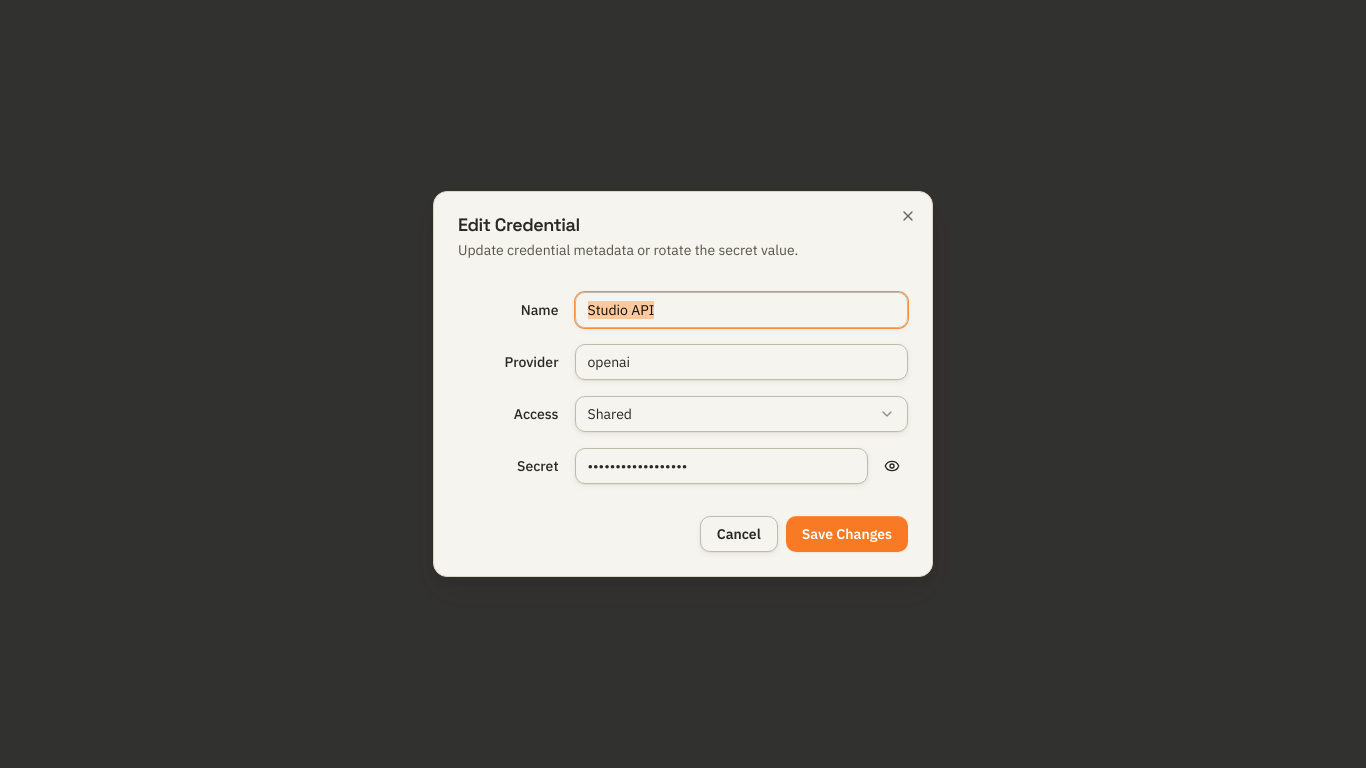
Test case: Credential dialogs › shows an explicit Show button in the edit dialog
The width and height of the screenshot is (1366, 768).
Click the button named "Show secret value" at (892, 466), box [876, 450, 908, 482]
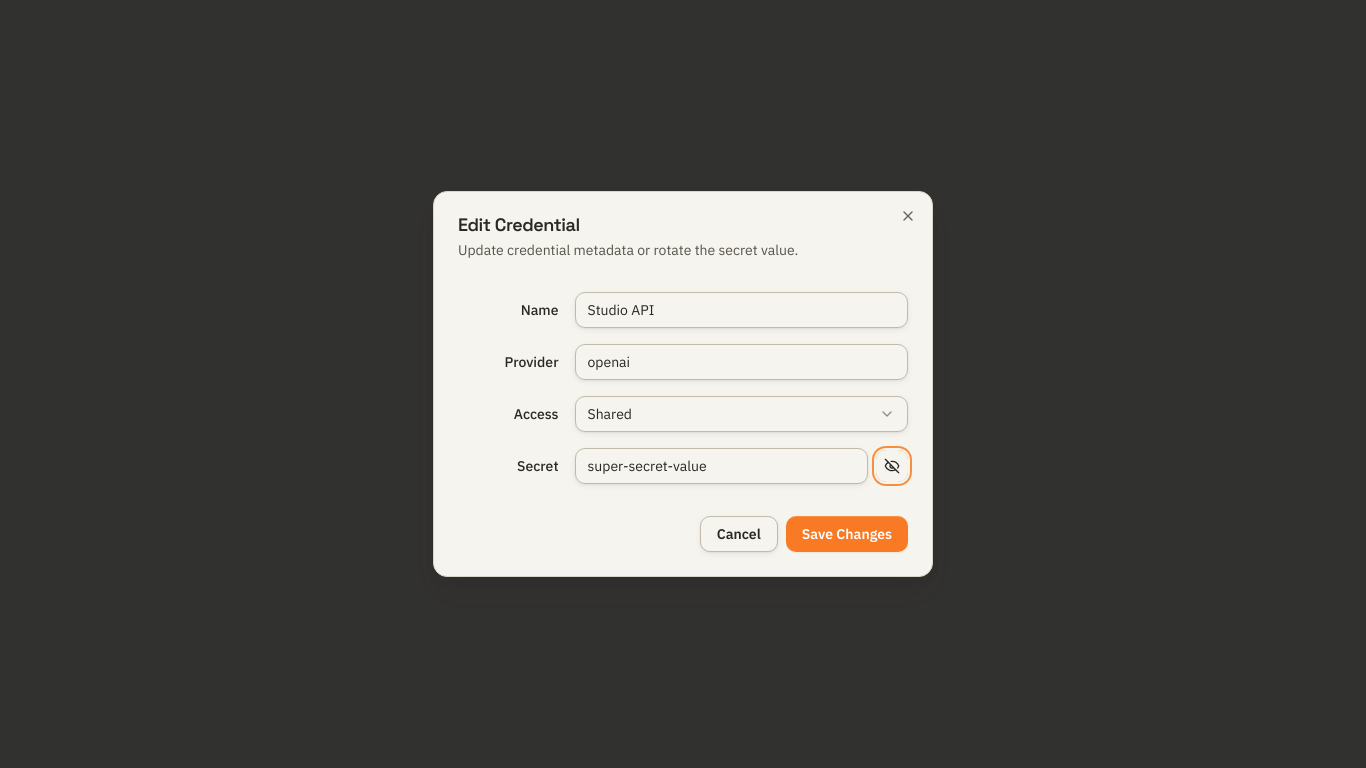
Check: the field labelled "Secret" shows its text, box [574, 448, 868, 484]
Check: the button named "Hide secret value" is shown, box [876, 450, 908, 482]
Click the dropdown named "Access" at (610, 414), box [574, 396, 908, 432]
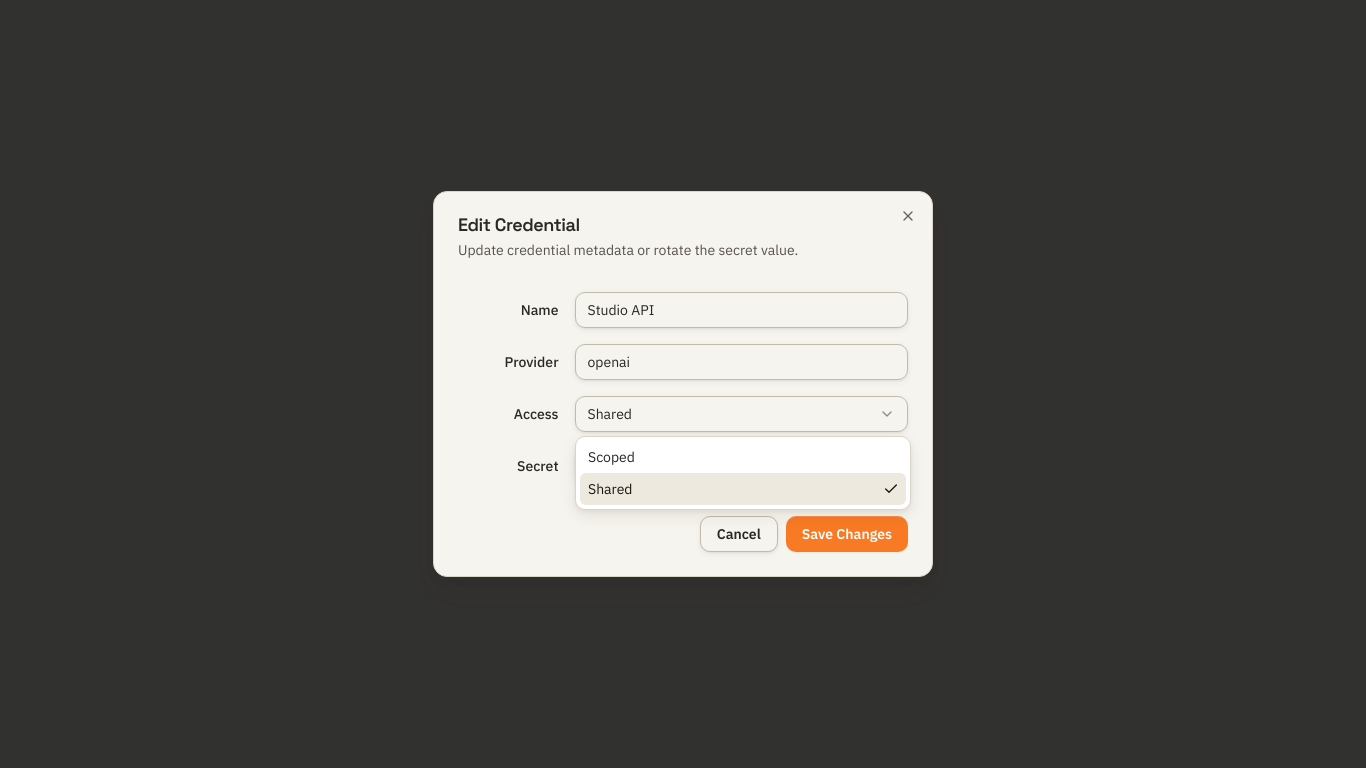
Check: the option "Scoped" is shown, box [588, 448, 635, 466]
Check: the option "Shared" is shown, box [580, 473, 906, 505]
